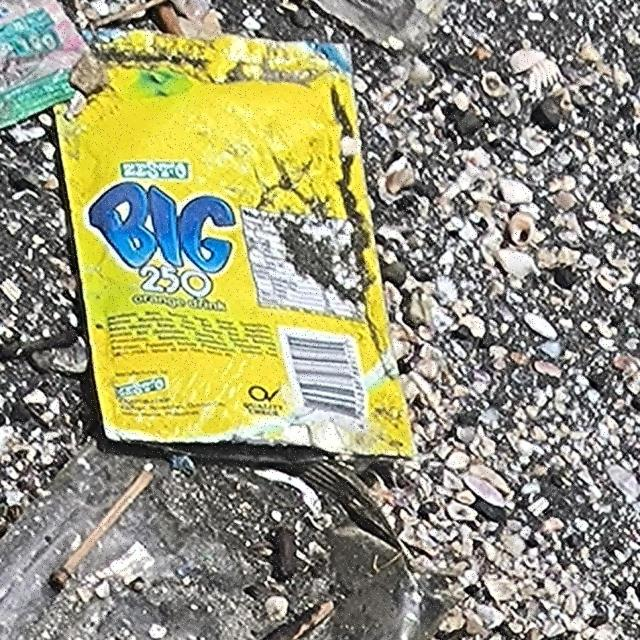plastic_waste: (55, 33, 421, 464)
